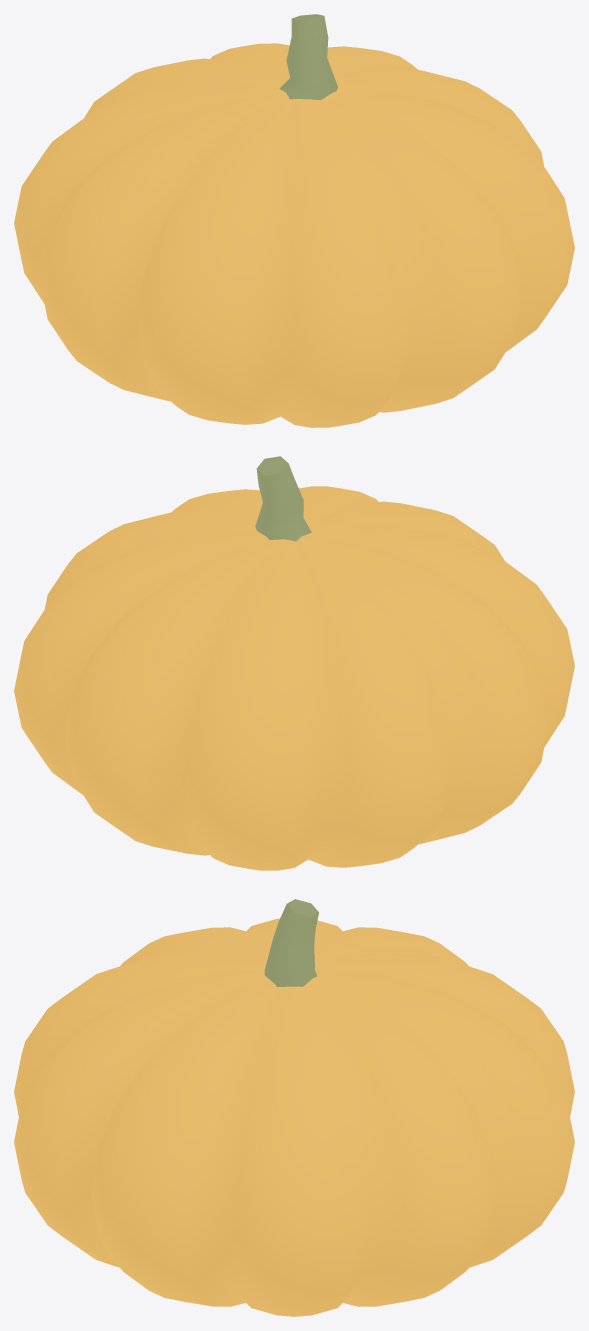
File: Blender_Pumpkin_1.glb
3 renders of one model, top to bottom at view 1: azimuth 30°, elevation 25°; view 2: azimuth 150°, elevation 25°; view 3: azimuth 270°, elevation 25°, orthographic. The views are drawn at different scales.
Parts seen in each view (by area): view 1: Blender_Pumpkin_1; view 2: Blender_Pumpkin_1; view 3: Blender_Pumpkin_1.
Part boxes in pixels (left/top/right/bottom): Blender_Pumpkin_1: left=14, top=14, right=574, bottom=427; Blender_Pumpkin_1: left=14, top=456, right=574, bottom=870; Blender_Pumpkin_1: left=14, top=899, right=574, bottom=1316.
Bounding box in the file's own units: 1.38 × 0.9711 × 1.33.
